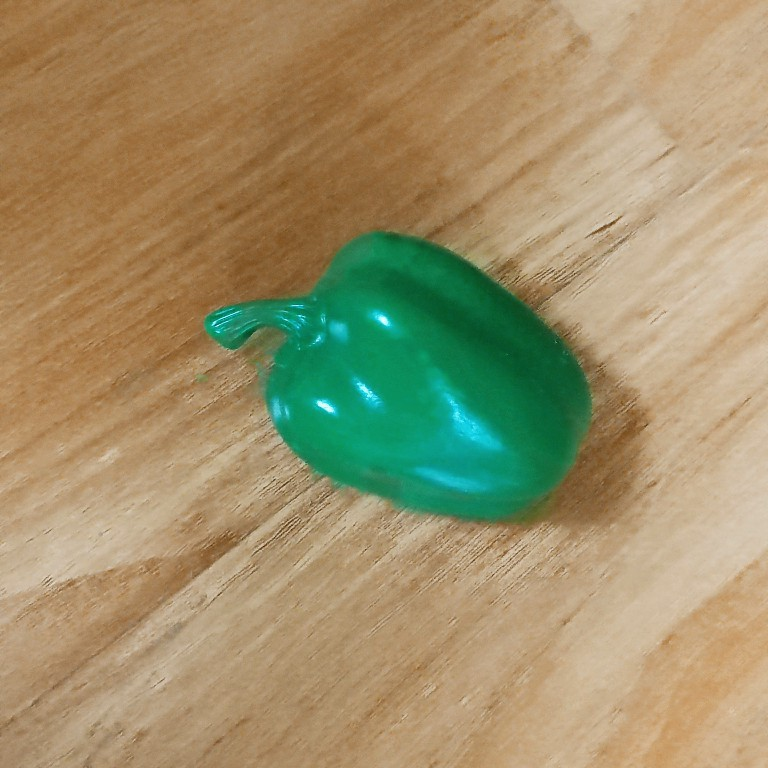fruit_pepper: (199, 225, 599, 531)
